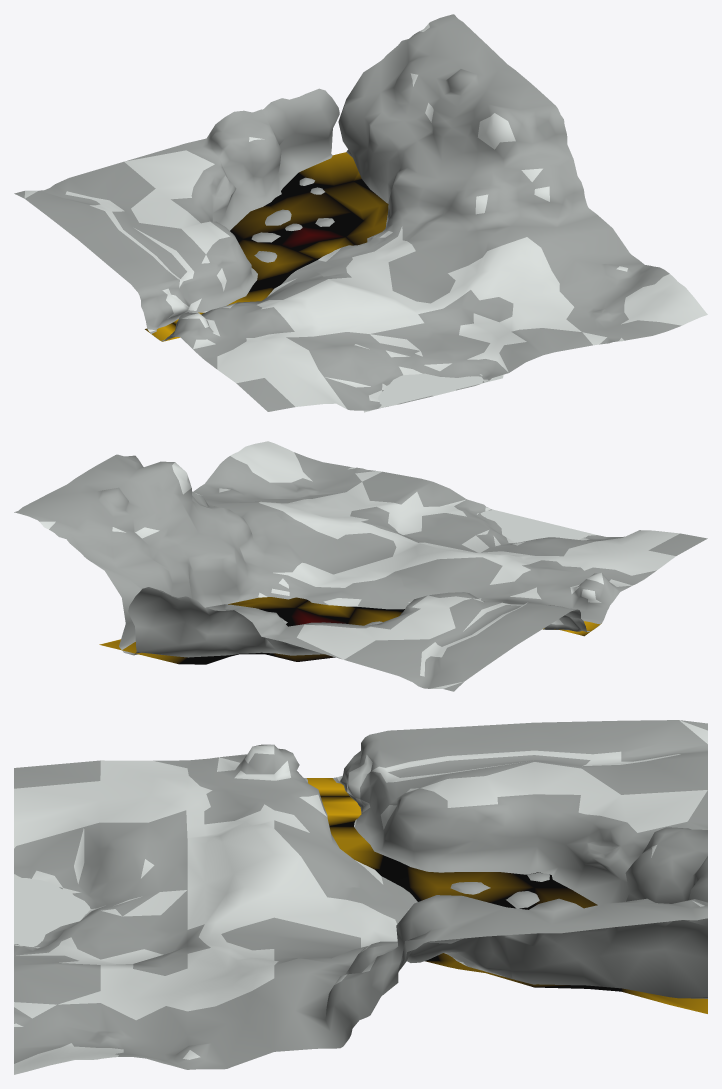
3 renders of one model, top to bottom at view 1: azimuth 30°, elevation 25°; view 2: azimuth 150°, elevation 25°; view 3: azimuth 270°, elevation 25°, orthographic. The views are drawn at different scales.
Parts seen in each view (by area): view 1: G:\FFXIV-MapTools\exports\f1f3\bg\ffxiv\fst_f1\fld\f1f3\bgpl (×13); view 2: G:\FFXIV-MapTools\exports\f1f3\bg\ffxiv\fst_f1\fld\f1f3\bgpl (×12); view 3: G:\FFXIV-MapTools\exports\f1f3\bg\ffxiv\fst_f1\fld\f1f3\bgpl (×13).
Part boxes in pixels (bbox=[...]): G:\FFXIV-MapTools\exports\f1f3\bg\ffxiv\fst_f1\fld\f1f3\bgpl (×13): bbox=[14, 14, 707, 412]; G:\FFXIV-MapTools\exports\f1f3\bg\ffxiv\fst_f1\fld\f1f3\bgpl (×12): bbox=[14, 441, 707, 691]; G:\FFXIV-MapTools\exports\f1f3\bg\ffxiv\fst_f1\fld\f1f3\bgpl (×13): bbox=[14, 720, 707, 1074].
Size of the model in its own units: 128 by 35.97 by 128.
